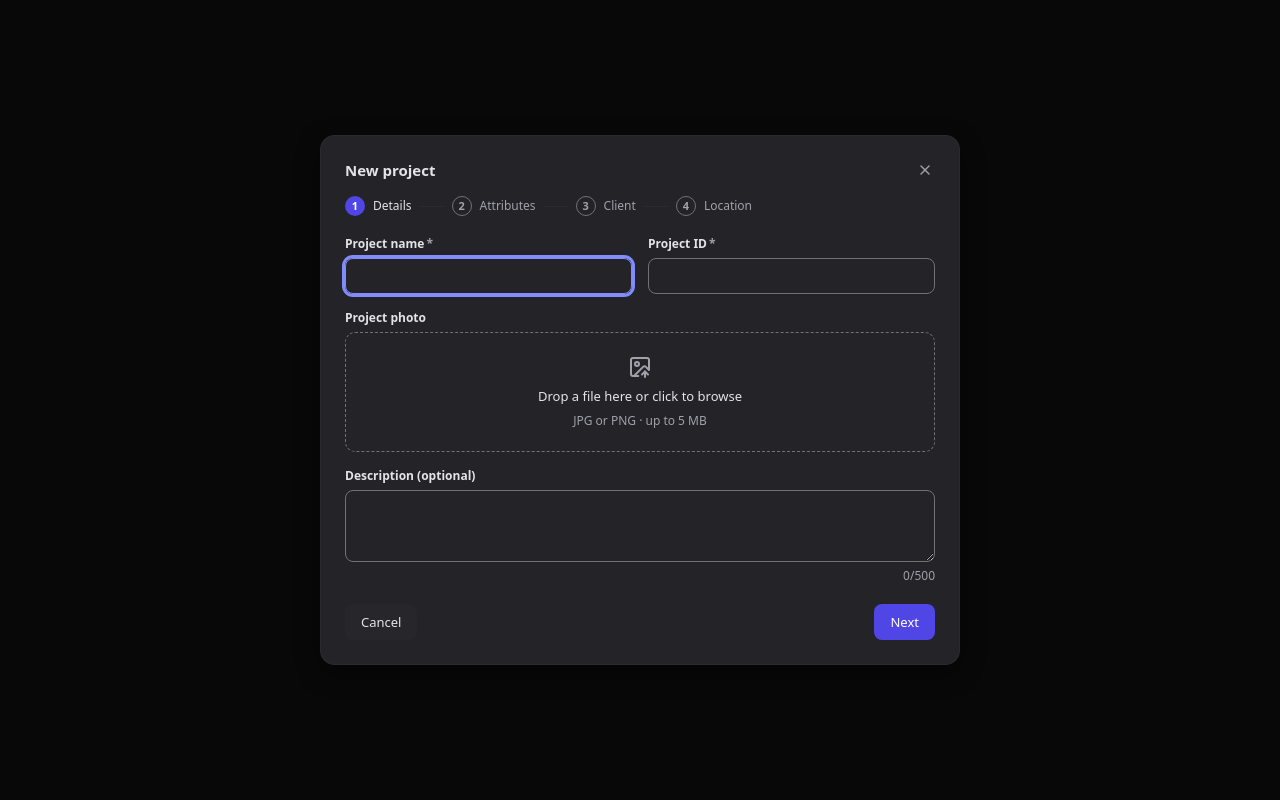
NewProjectWizard › validates step 1 before moving on
expect the dialog "New project" is shown: met, box [320,135,960,665]
Click the button "Next" at (905, 622), box [874,604,935,640]
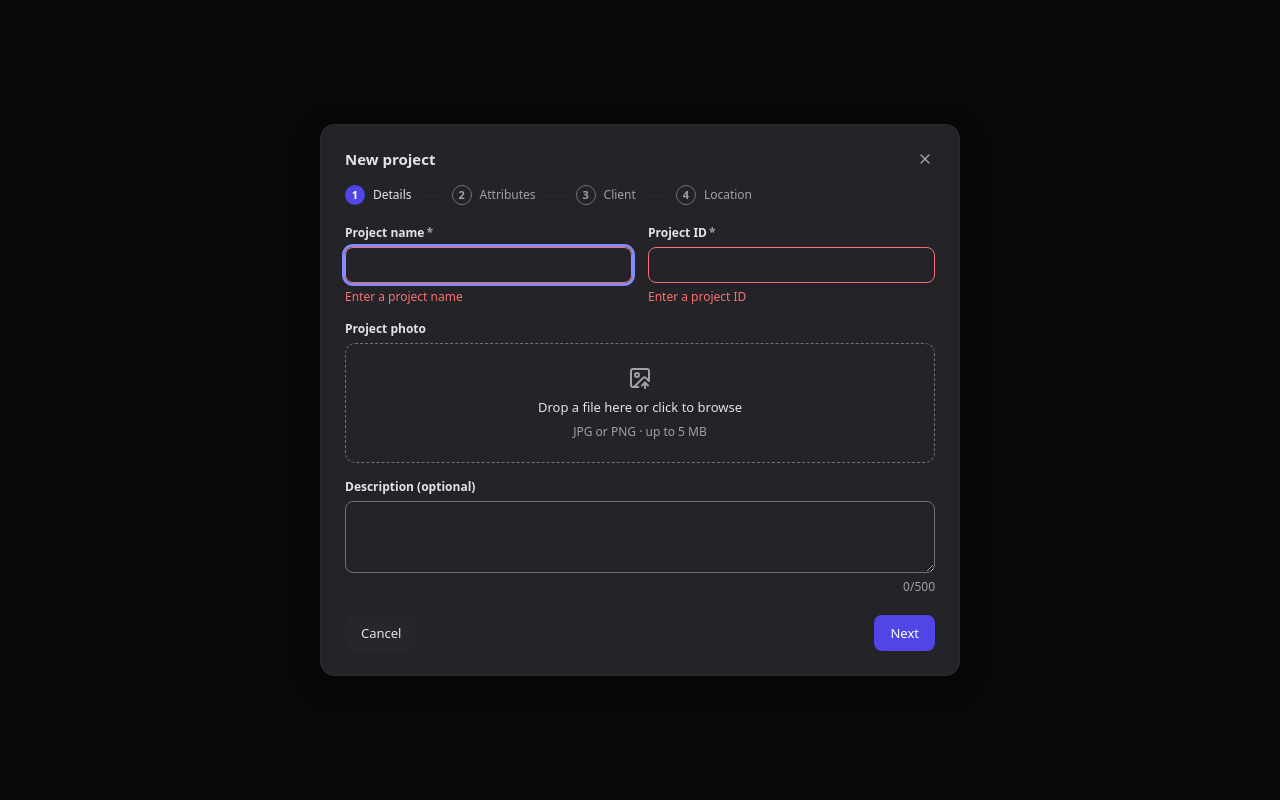
expect the text "Enter a project name" is shown: met, box [345,288,463,305]
expect the text "Enter a project ID" is shown: met, box [648,288,746,305]
